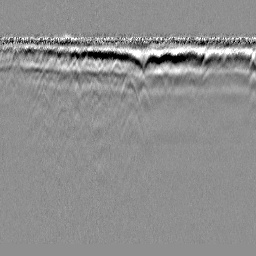cavity: (118, 77, 141, 109)
